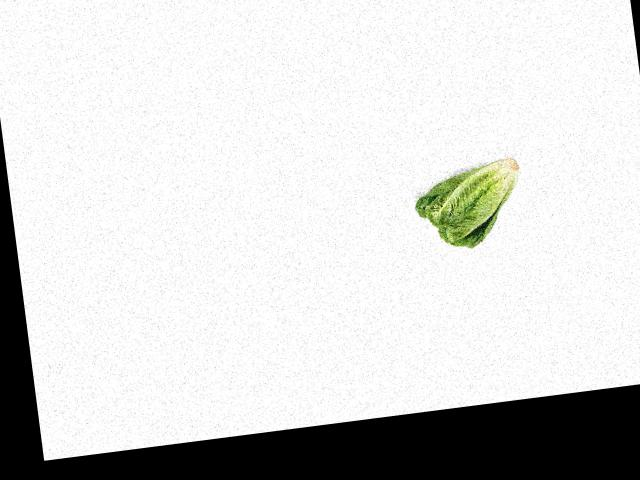lettuce: (410, 153, 535, 253)
